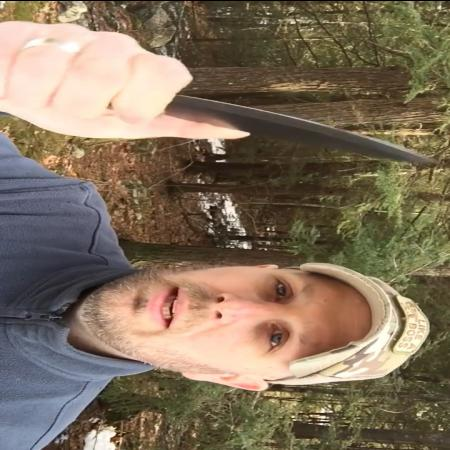long weapon: (104, 38, 445, 172)
